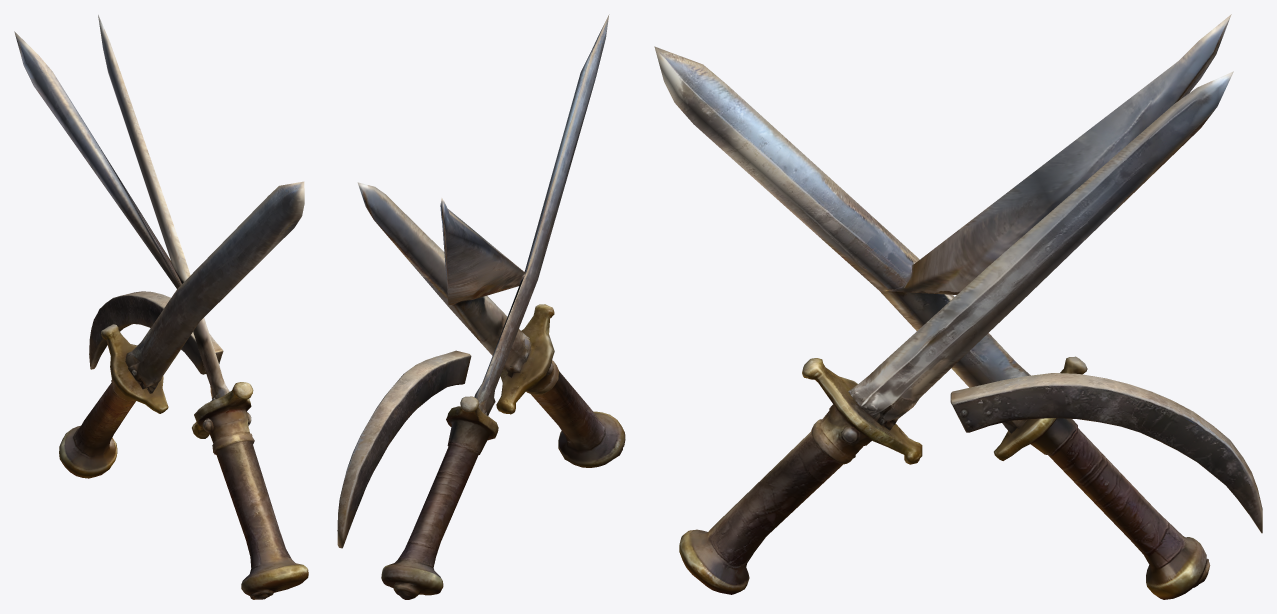
3 renders of one model, left to right at view 1: azimuth 30°, elevation 25°; view 2: azimuth 150°, elevation 25°; view 3: azimuth 270°, elevation 25°, orthographic. The views are drawn at different scales.
Visible parts, largest first — view 1: tripo_node_4e0a0f23-5138-4d4d-abcc-8fda802a9072; view 2: tripo_node_4e0a0f23-5138-4d4d-abcc-8fda802a9072; view 3: tripo_node_4e0a0f23-5138-4d4d-abcc-8fda802a9072.
Part boxes in pixels (left/top/right/bottom): tripo_node_4e0a0f23-5138-4d4d-abcc-8fda802a9072: left=14, top=15, right=308, bottom=599; tripo_node_4e0a0f23-5138-4d4d-abcc-8fda802a9072: left=337, top=14, right=625, bottom=599; tripo_node_4e0a0f23-5138-4d4d-abcc-8fda802a9072: left=654, top=14, right=1262, bottom=599.
Bounding box in the file's own units: 0.2363 × 0.998 × 0.998.
1 material, 1 textured.
